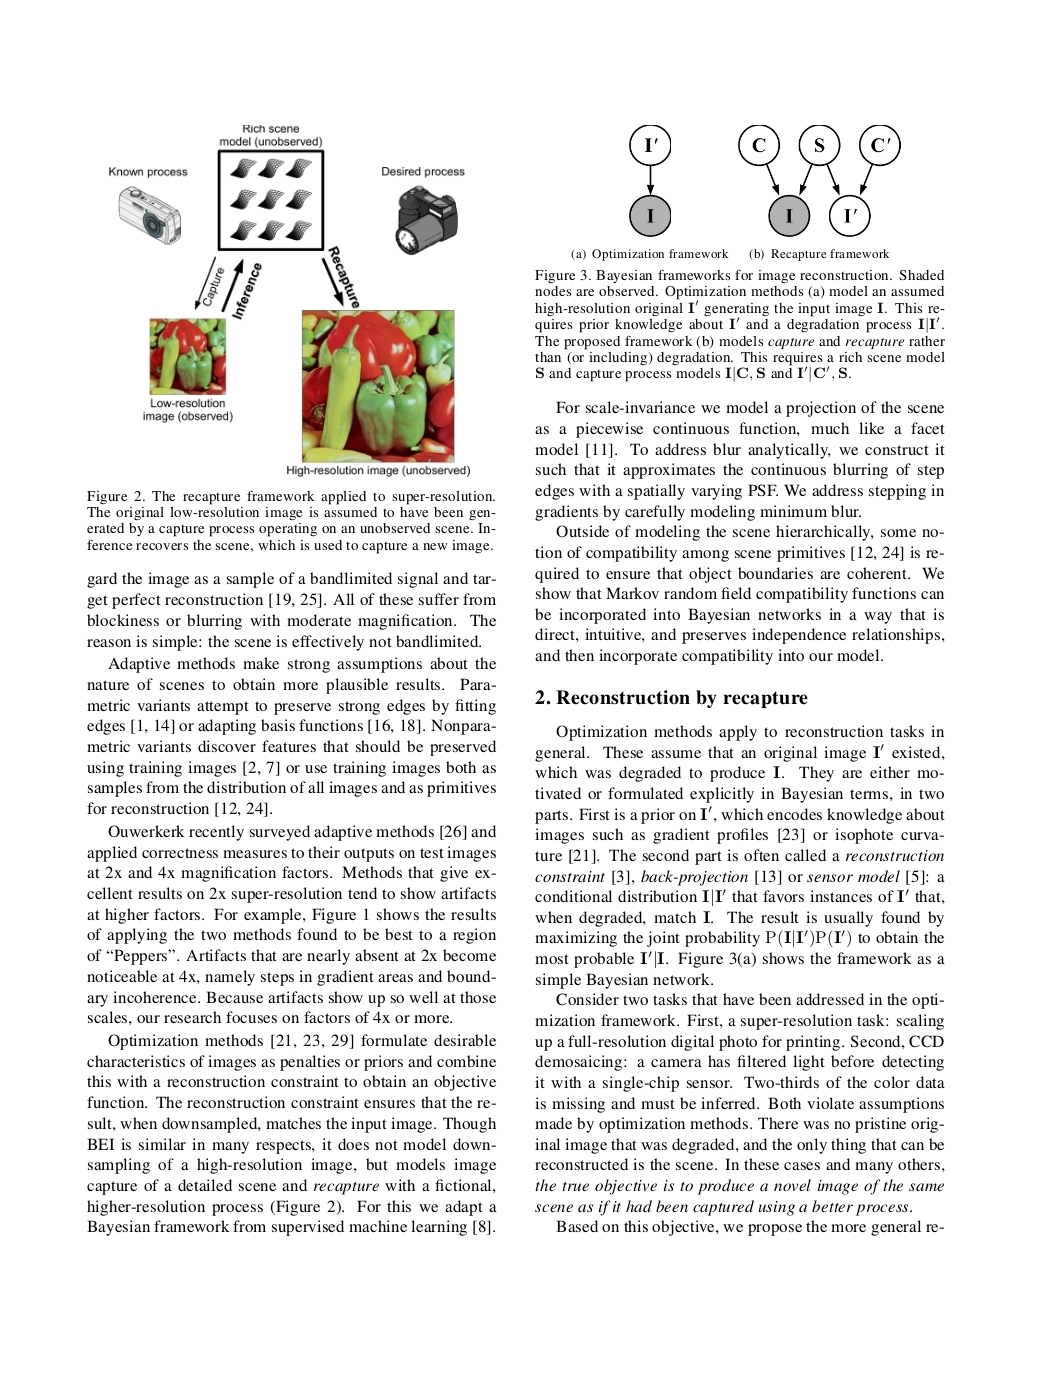figure: (109, 135, 464, 462), (738, 125, 901, 236), (629, 125, 670, 236)
